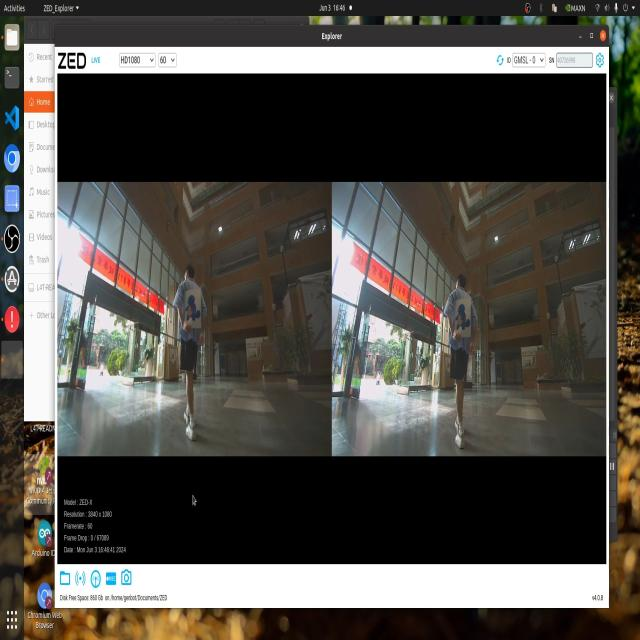blue: (452, 295, 474, 336), (185, 289, 198, 332)
